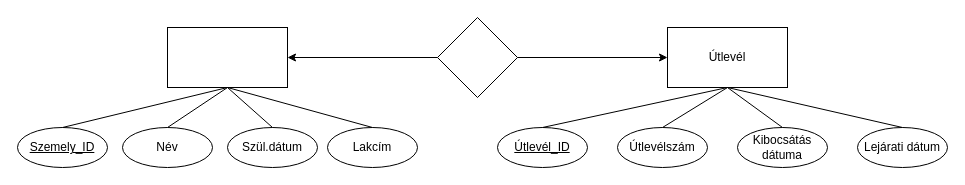
This 965x185 diagram has some shape labels left out. The centre of each missing label's shape, as x and y in pixels:
SZ-U: the point at 477,57
Személy: the point at 227,57
